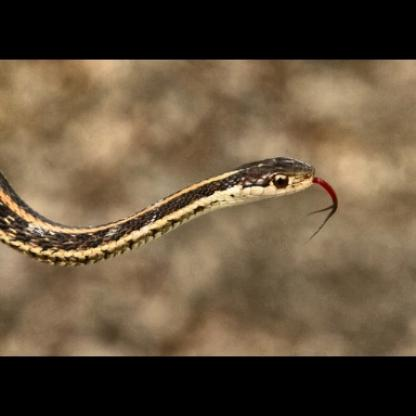Snake: (1, 149, 328, 272)
